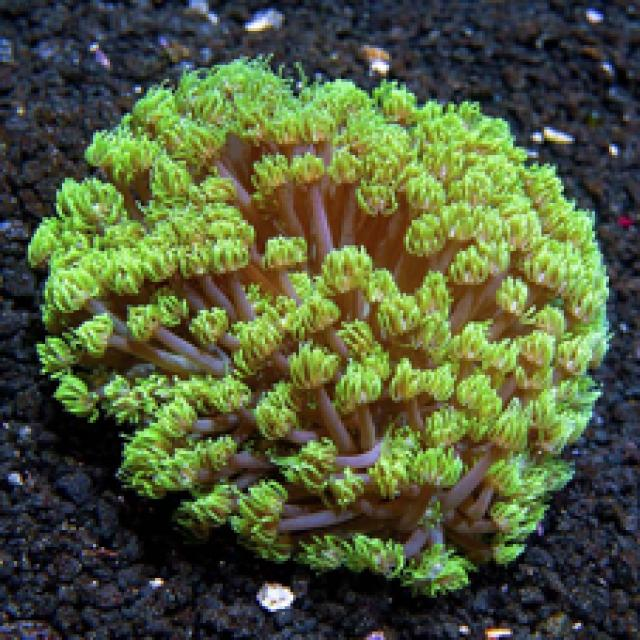Healthy: (29, 60, 607, 593)
